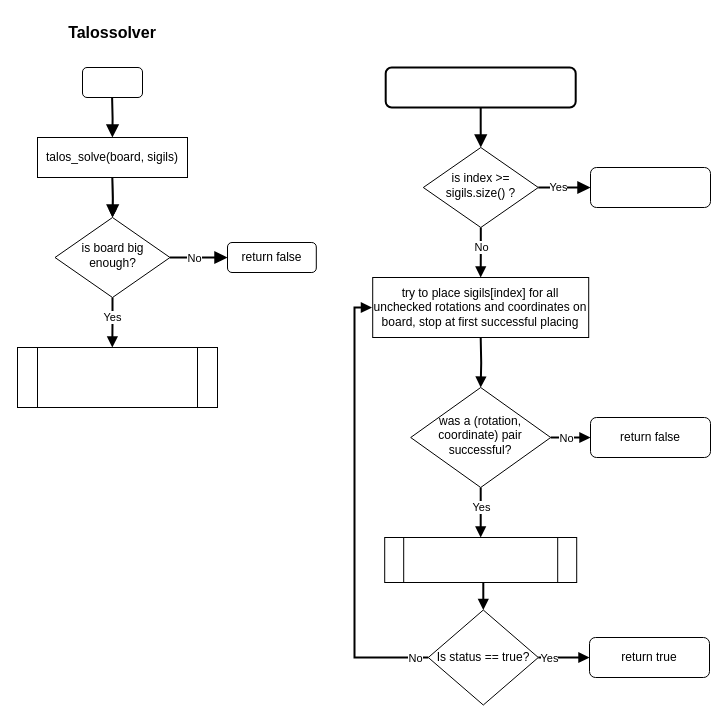
This 728x722 diagram has some shape labels left out. Here are the shapes that lost their labels. From the top down, the box of each, then its label:
(82, 66, 142, 98): Start
(384, 66, 576, 108): talos_solve(board, sigils, index)
(590, 166, 710, 208): Board already solved, return true
(16, 346, 218, 408): return talos_solve(board, sigils, 0)
(384, 536, 577, 582): status = talos_solve(board, sigils, ++index)
